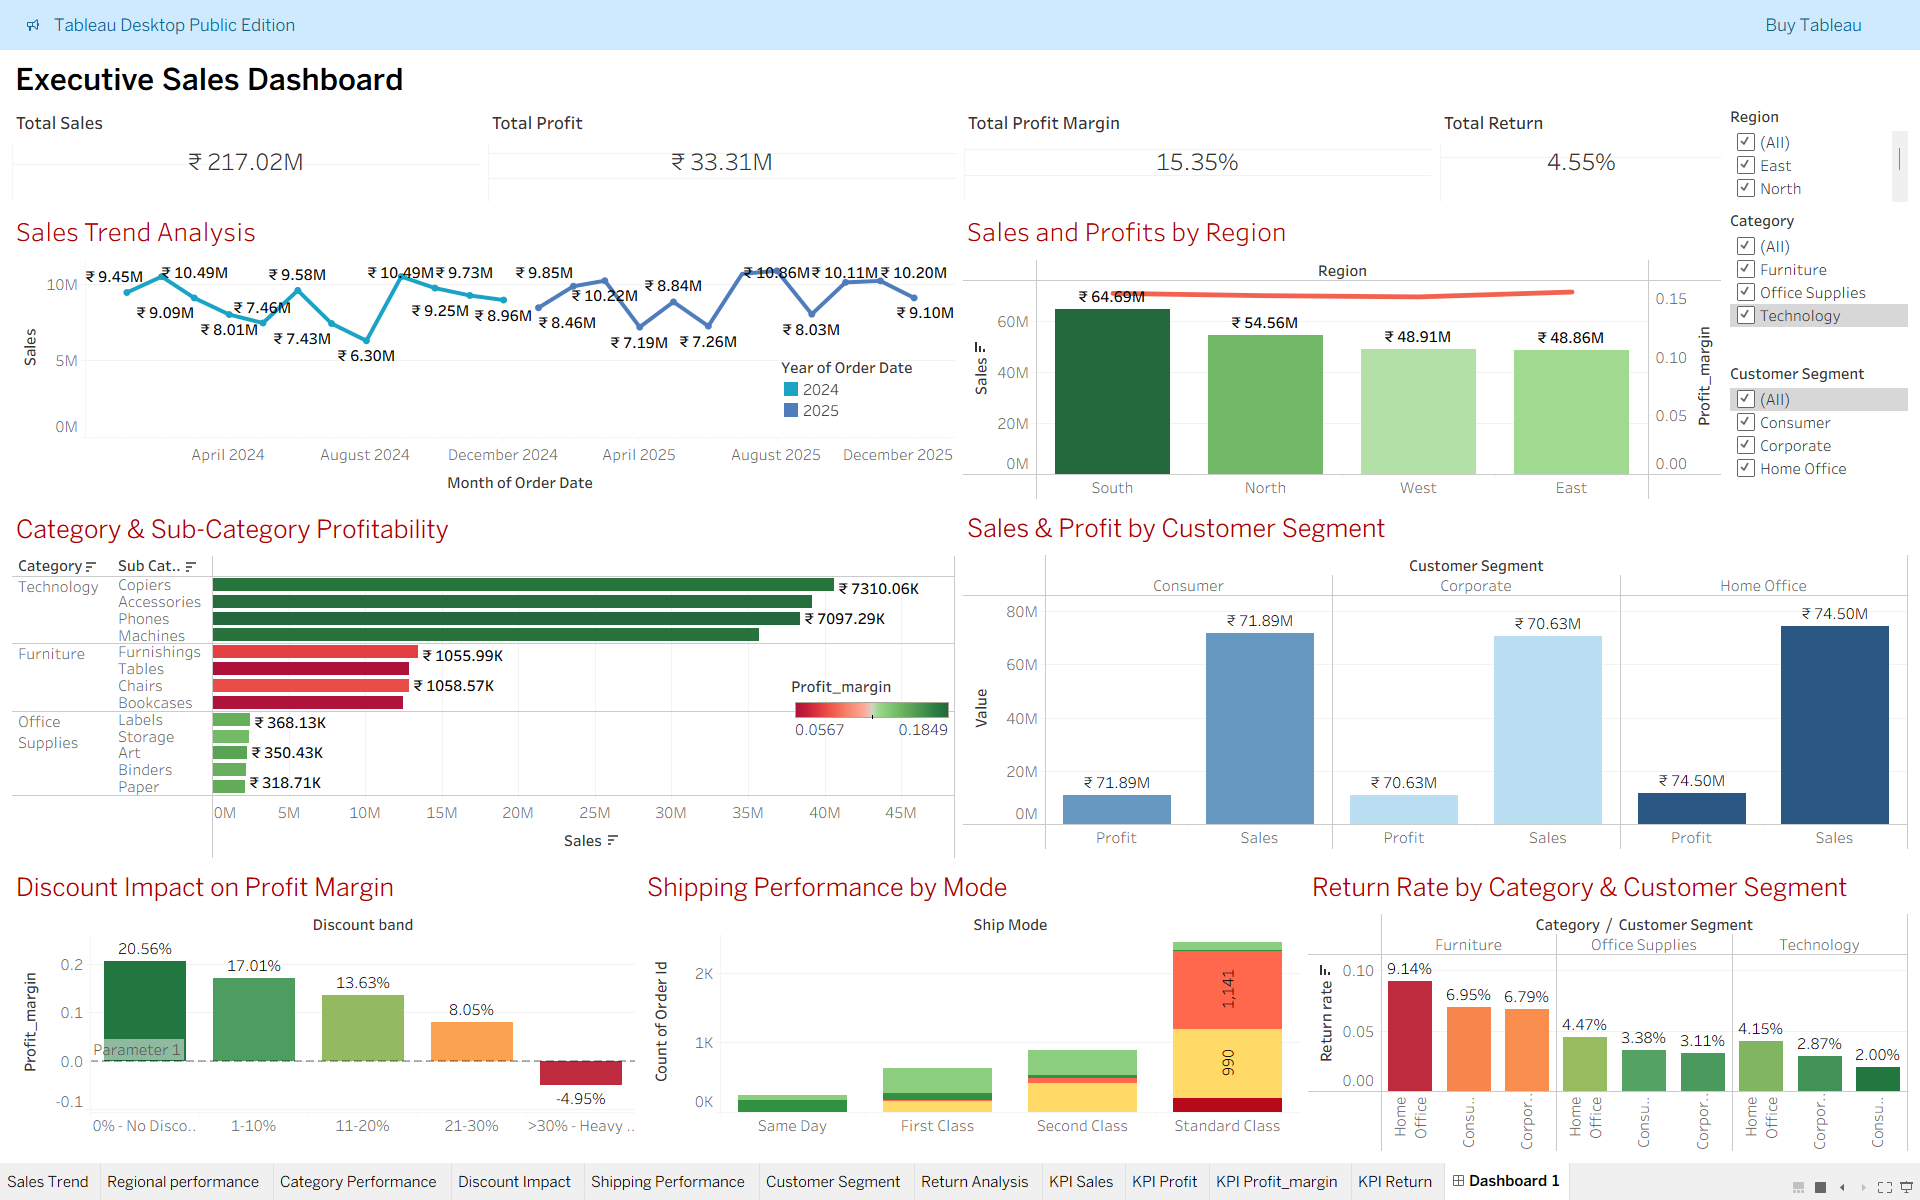

What the dashboard file says about the page in this screenshot:
{"tool":"tableau","page":{"name":"Dashboard 1","canvas":[1000,1000],"units":"permille","ordinal":0},"visuals":[{"type":"title","box":[4.8,8.7,990.3,47.8]},{"type":"worksheet","title":"KPI Sales","mark":"Text","rows":["sales"],"box":[4.8,56.5,247.4,92.6]},{"type":"worksheet","title":"KPI Profit","mark":"Text","rows":["profit"],"box":[252.2,56.5,247.6,92.6]},{"type":"worksheet","title":"KPI Profit_margin","mark":"Text","rows":["Calculation_2249892681052160"],"box":[499.8,56.5,247.6,92.6]},{"type":"worksheet","title":"KPI Return","mark":"Text","rows":["Calculation_2249892693778435"],"box":[747.4,56.5,151.2,92.6]},{"type":"filter","title":"Regional performance","param":"[federated.0f4fcf21ggcj2e115vujo1799w4p].[none:region:nk]","box":[898.6,56.5,96.6,92.6]},{"type":"worksheet","title":"Sales Trend","mark":"Line","rows":["sales"],"cols":["order_date"],"box":[4.8,149.1,494.8,264.9]},{"type":"worksheet","title":"Regional performance","mark":"Line","rows":["sales","Calculation_2249892681052160"],"cols":["region"],"box":[499.7,149.1,398.9,264.4]},{"type":"filter","title":"Category Performance","param":"[federated.0f4fcf21ggcj2e115vujo1799w4p].[none:category:nk]","box":[898.6,149.1,96.6,135.3]},{"type":"legend","title":"Sales Trend","param":"[federated.0f4fcf21ggcj2e115vujo1799w4p].[yr:order_date:ok]","box":[406.8,275.8,89.9,69.5]},{"type":"filter","title":"Customer Segment","param":"[federated.0f4fcf21ggcj2e115vujo1799w4p].[none:customer_segment:nk]","box":[898.6,284.4,96.6,129.2]},{"type":"worksheet","title":"Customer Segment","mark":"Automatic","cols":["customer_segment"],"box":[499.7,413.5,495.5,318.1]},{"type":"worksheet","title":"Category Performance","mark":"Automatic","rows":["category","sub_category"],"cols":["sales"],"box":[4.8,414,494.8,317.6]},{"type":"legend","title":"Category Performance","param":"[federated.0f4fcf21ggcj2e115vujo1799w4p].[usr:Calculation_2249892681052160:qk]","box":[412.2,562.4,84.5,95.5]},{"type":"worksheet","title":"Discount Impact","mark":"Automatic","rows":["Calculation_2249892681052160"],"cols":["Calculation_2249892694355973"],"box":[4.8,731.6,328.2,259.7]},{"type":"worksheet","title":"Shipping Performance","mark":"Automatic","rows":["order_id"],"cols":["ship_mode"],"box":[333,731.6,345.8,259.7]},{"type":"worksheet","title":"Return Analysis","mark":"Automatic","rows":["Calculation_2249892693778435"],"cols":["category","customer_segment"],"box":[678.9,731.6,316.3,259.7]}]}

Visuals, with their boxes on the dashboard's canvas, which has no fixed pixel size, in thousandths of its width and height (x1, y1, x2, y2). These are canvas units, not pixel positions in the 1920x1200 screenshot, which may show the page scaled, cropped or inside an application window:
title: select_region(5, 9, 995, 56)
"KPI Sales" worksheet (Text marks): select_region(5, 56, 252, 149)
"KPI Profit" worksheet (Text marks): select_region(252, 56, 500, 149)
"KPI Profit_margin" worksheet (Text marks): select_region(500, 56, 747, 149)
"KPI Return" worksheet (Text marks): select_region(747, 56, 899, 149)
"Regional performance" filter: select_region(899, 56, 995, 149)
"Sales Trend" worksheet (Line marks): select_region(5, 149, 500, 414)
"Regional performance" worksheet (Line marks): select_region(500, 149, 899, 414)
"Category Performance" filter: select_region(899, 149, 995, 284)
"Sales Trend" legend: select_region(407, 276, 497, 345)
"Customer Segment" filter: select_region(899, 284, 995, 414)
"Customer Segment" worksheet: select_region(500, 414, 995, 732)
"Category Performance" worksheet: select_region(5, 414, 500, 732)
"Category Performance" legend: select_region(412, 562, 497, 658)
"Discount Impact" worksheet: select_region(5, 732, 333, 991)
"Shipping Performance" worksheet: select_region(333, 732, 679, 991)
"Return Analysis" worksheet: select_region(679, 732, 995, 991)
